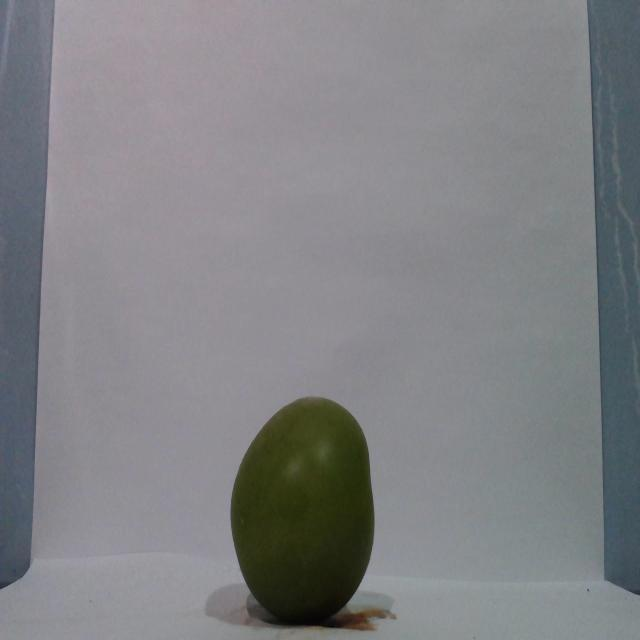Red: (228, 394, 376, 623)
